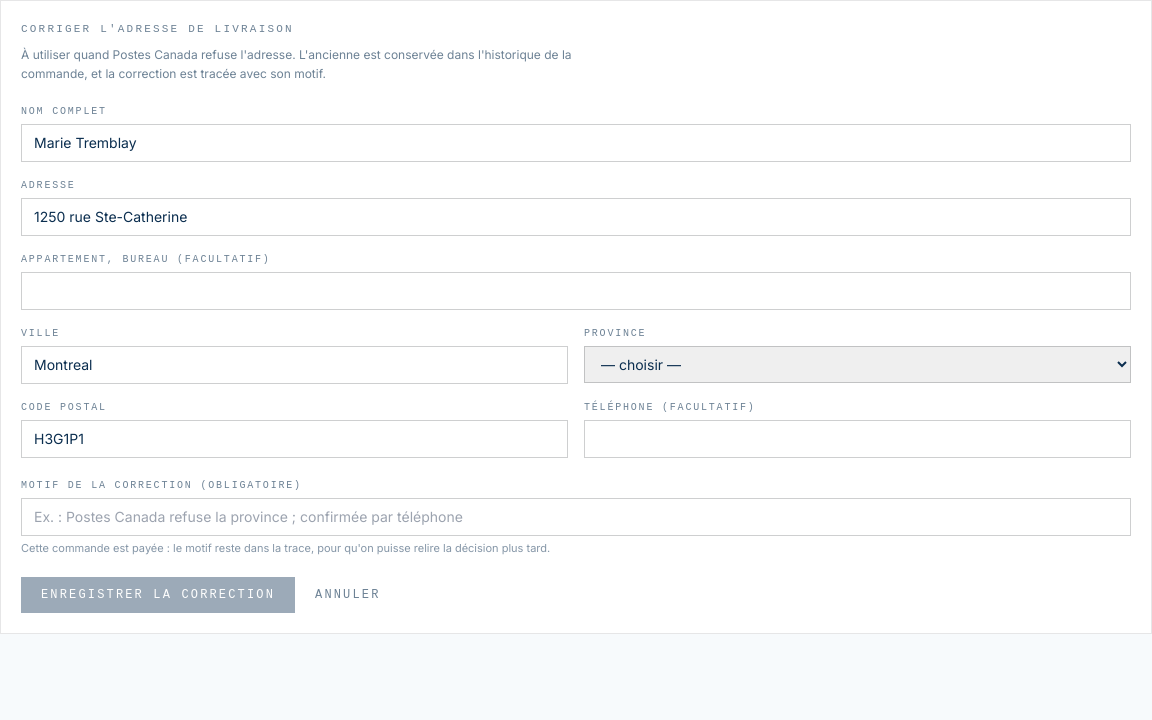
it: formate le code postal et en deduit la province
Replace the text in the field with test id "ca-postal" with "h3g1p1": (294, 439) [21,420,568,458]
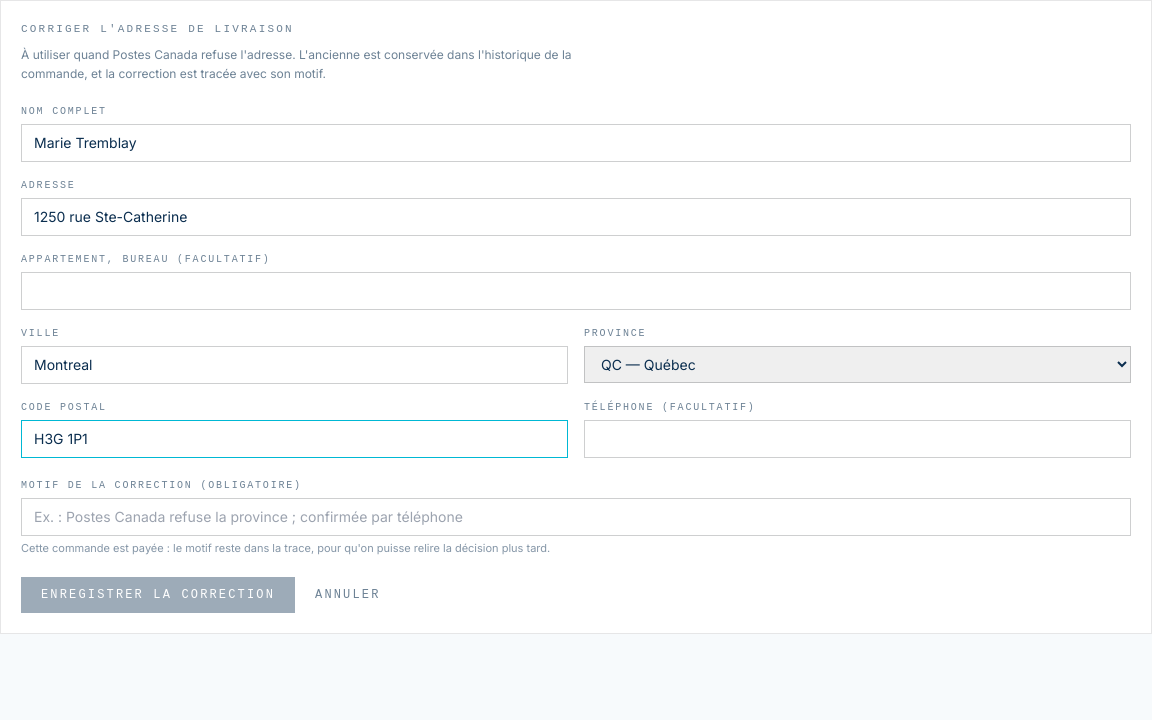
Expected: the field with test id "ca-postal" holds "H3G 1P1", [21,420,568,458]
Expected: the dropdown with test id "ca-province" shows "QC — Québec", [584,346,1131,383]
